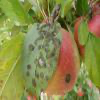Apple Scab Leaf: (21, 16, 63, 99)
